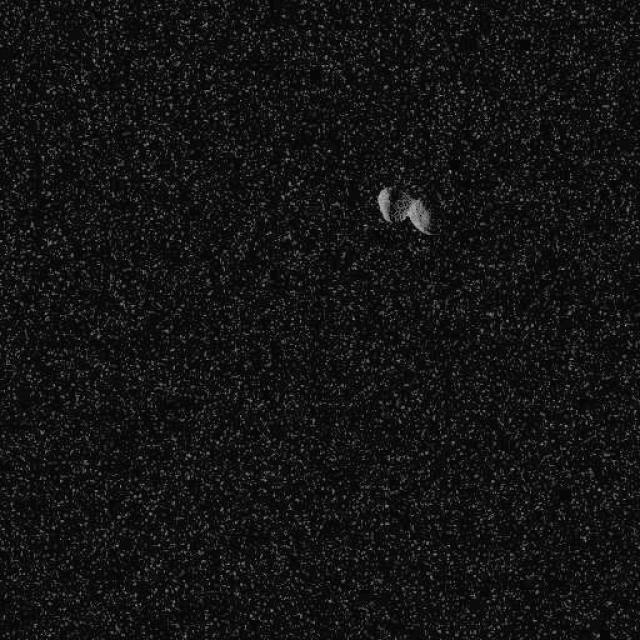D2: (375, 180, 443, 236)
